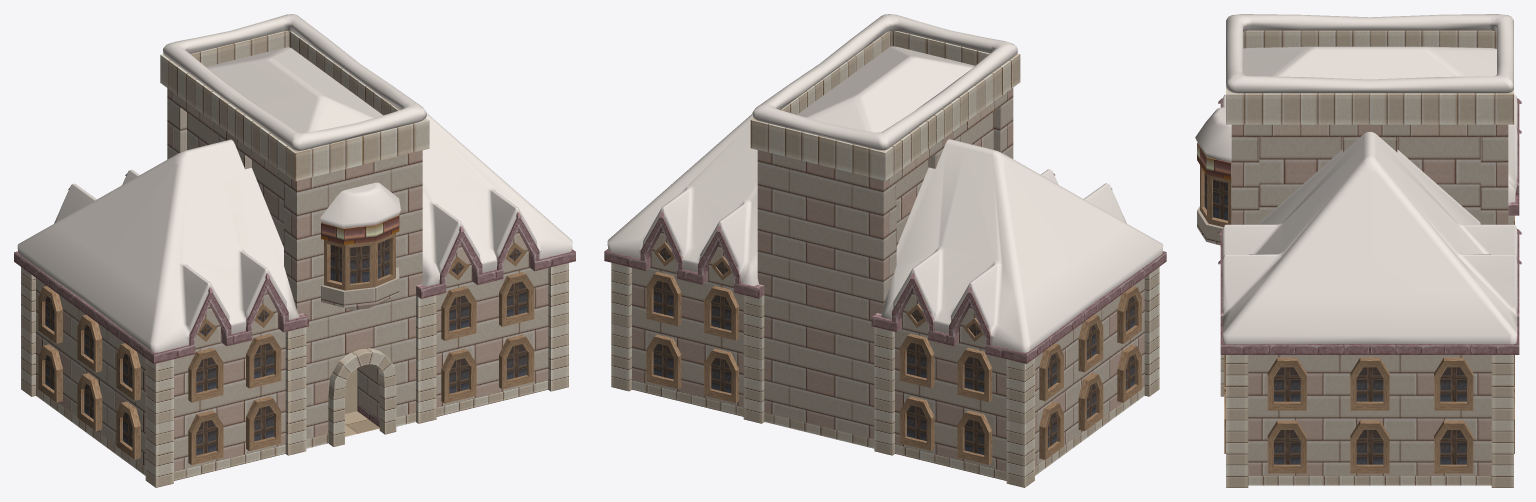
The model's file is School - Snow.fbx.
3 renders of one model, left to right at view 1: azimuth 30°, elevation 25°; view 2: azimuth 150°, elevation 25°; view 3: azimuth 270°, elevation 25°, orthographic. The views are drawn at different scales.
Visible parts, largest first — view 1: obj; view 2: obj; view 3: obj.
Part boxes in pixels (left/top/right/bottom): obj: left=14, top=14, right=575, bottom=487; obj: left=604, top=14, right=1166, bottom=487; obj: left=1195, top=14, right=1521, bottom=487.
Bounding box in the file's own units: 9.4 × 6.67 × 5.9.
